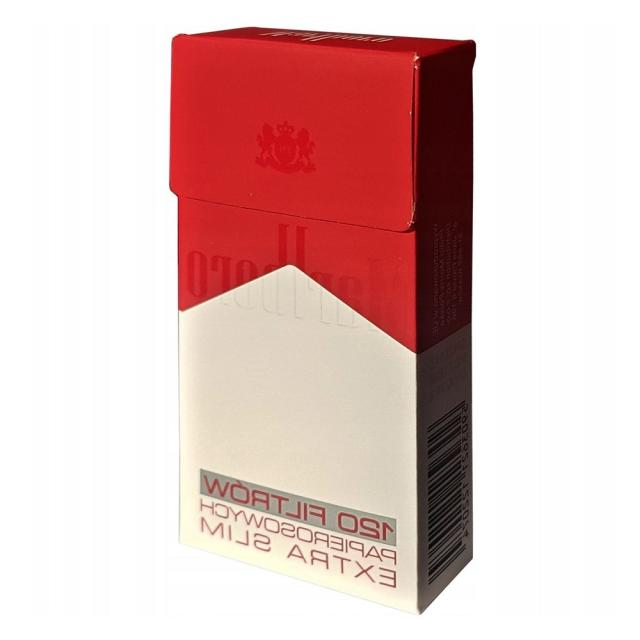marlboro: (176, 23, 469, 608)
